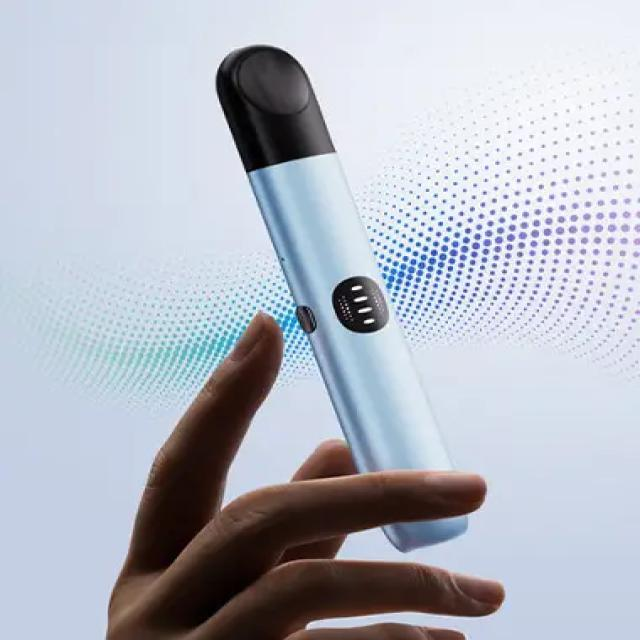Hazard: (211, 42, 470, 554)
